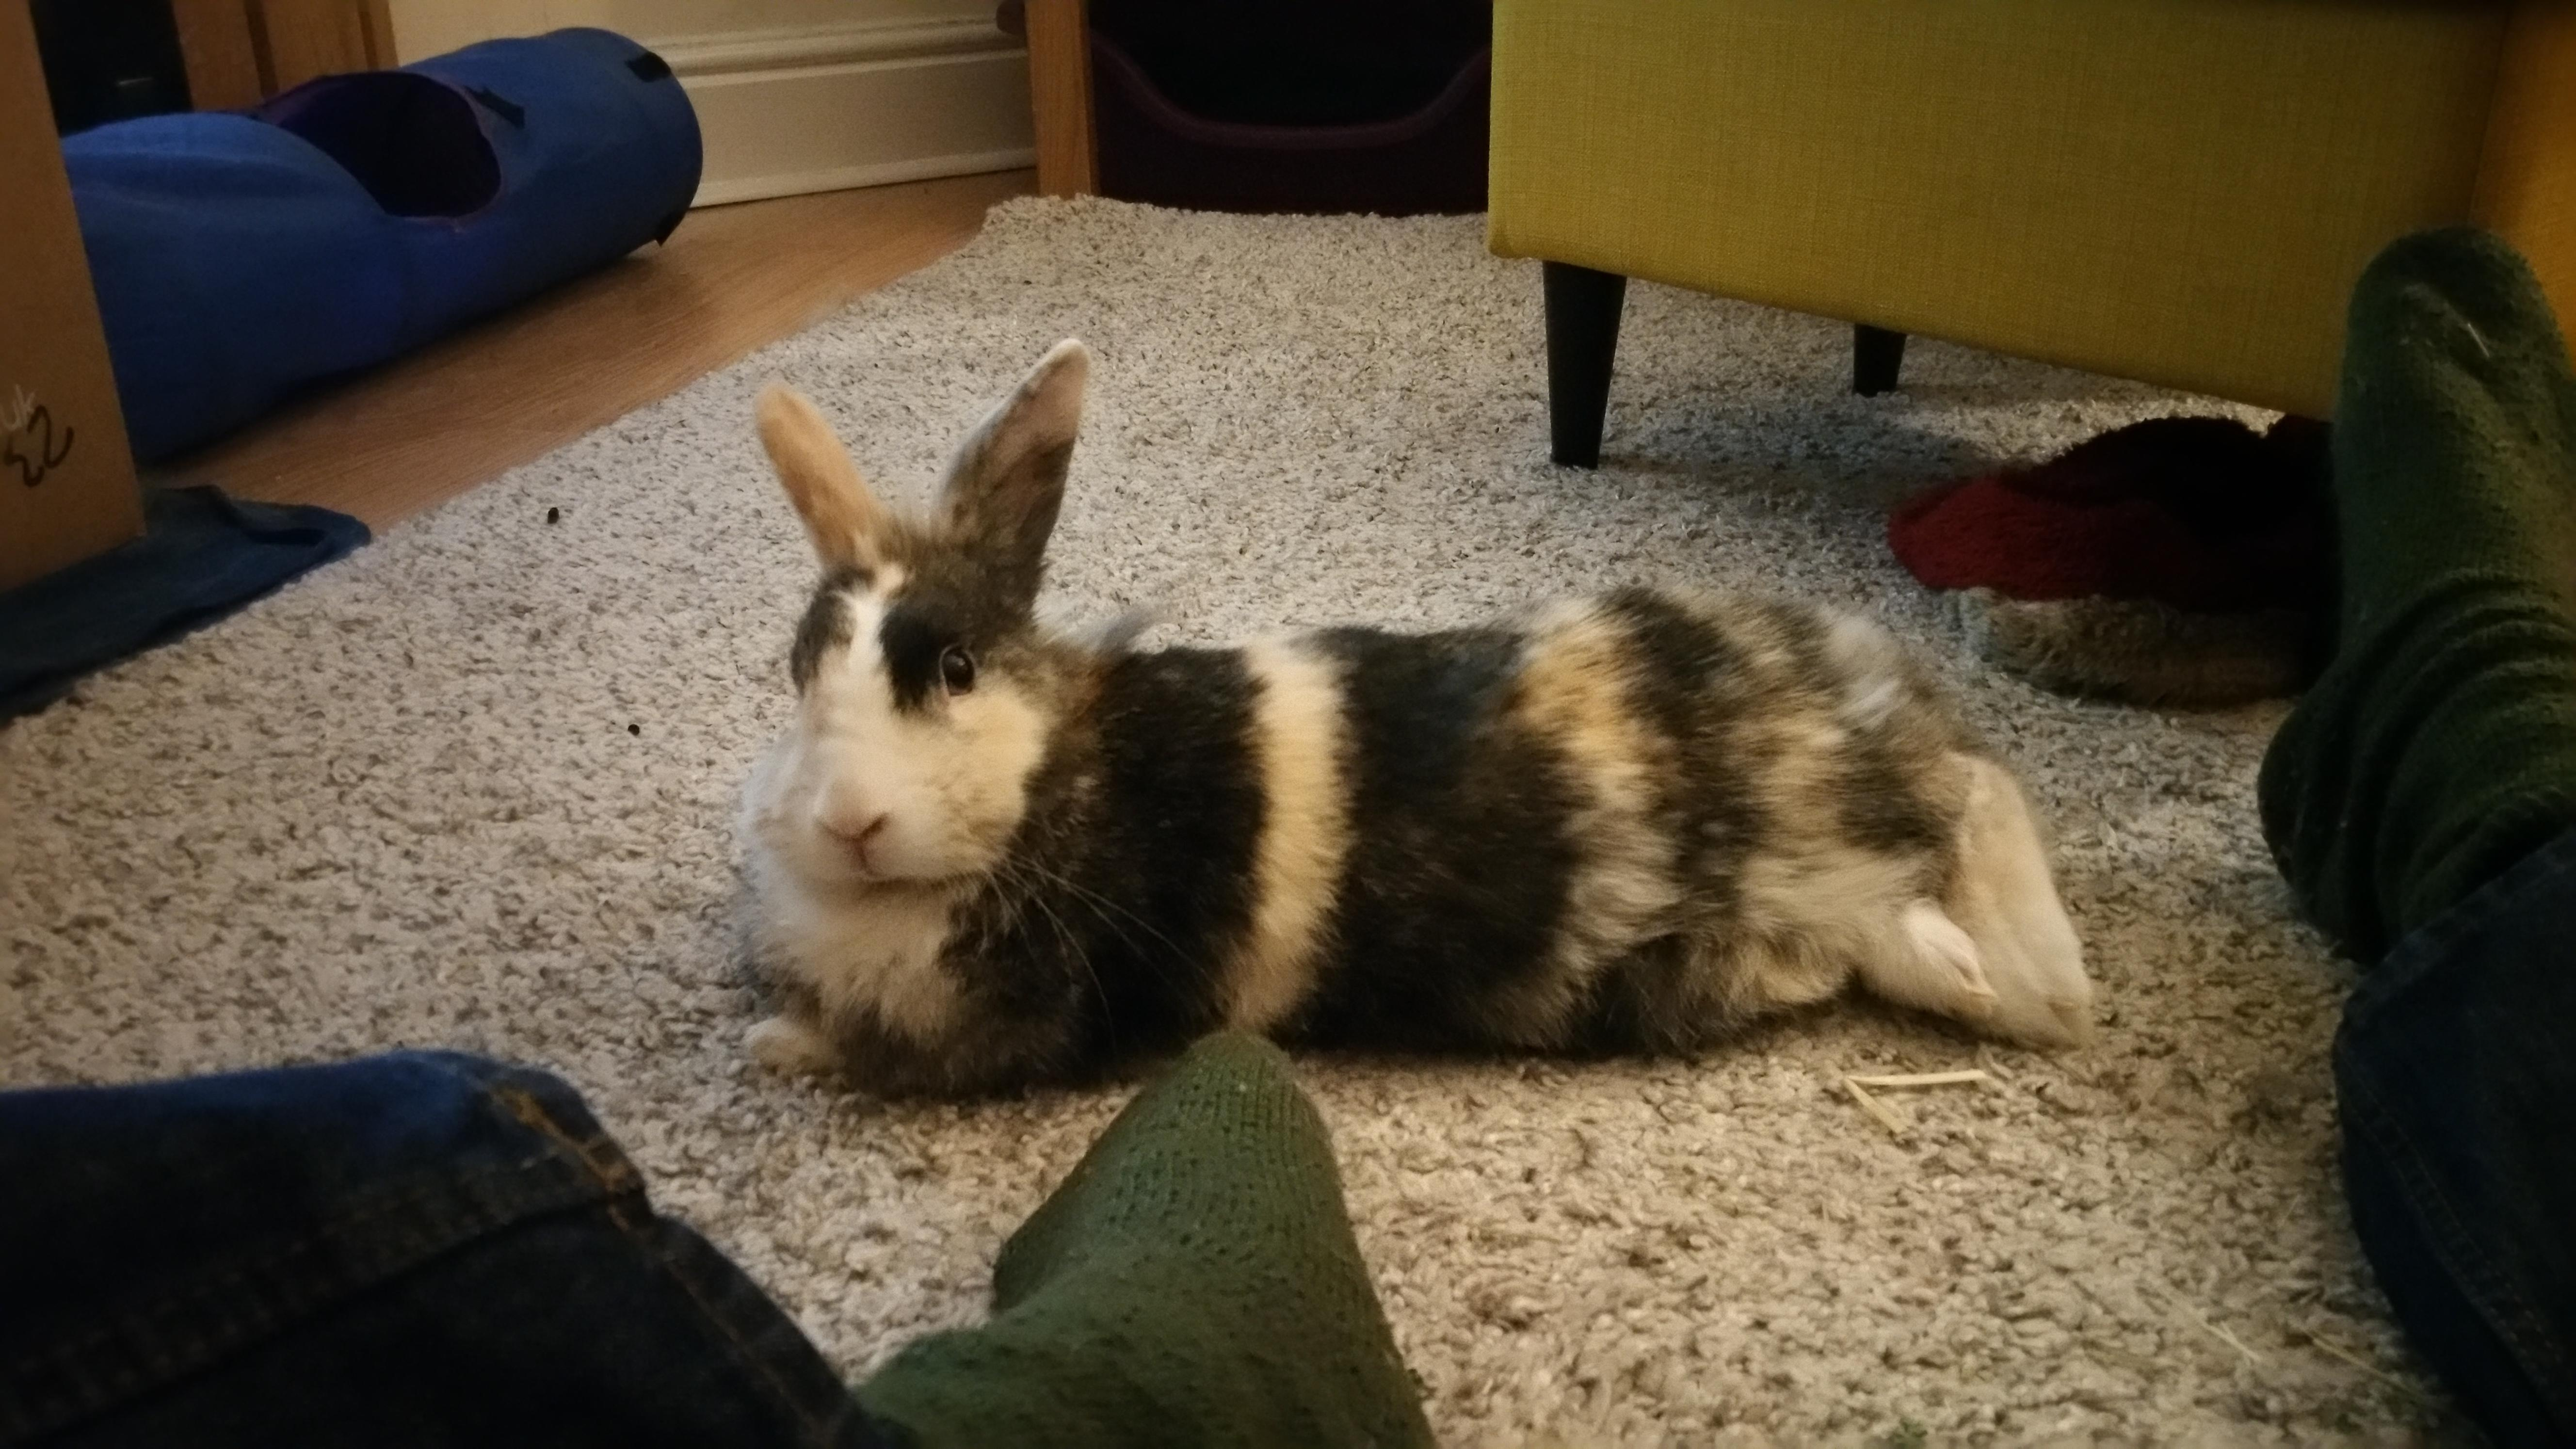bunny: (688, 354, 2227, 1191)
